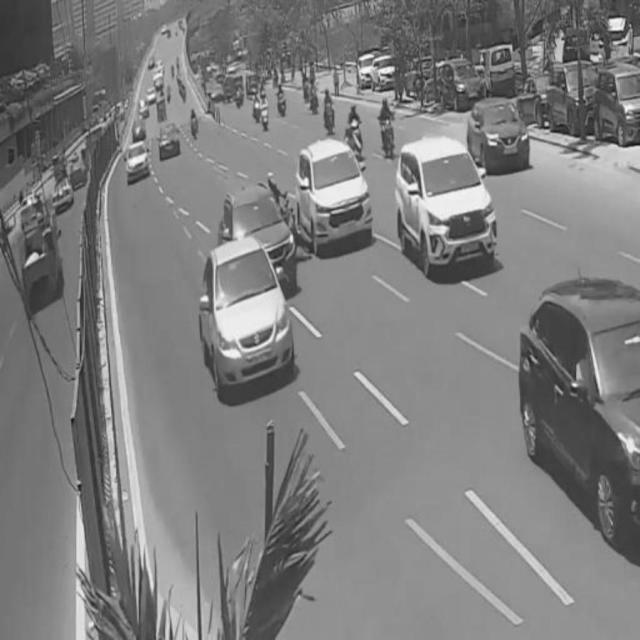accident: (222, 166, 296, 303)
vehicle: (520, 276, 640, 554), (398, 133, 499, 275), (201, 245, 292, 393), (294, 139, 376, 245), (466, 90, 530, 173), (21, 207, 61, 305), (591, 65, 638, 148), (548, 68, 594, 135), (124, 139, 151, 191), (378, 98, 398, 160), (346, 101, 364, 155), (323, 87, 337, 135)
